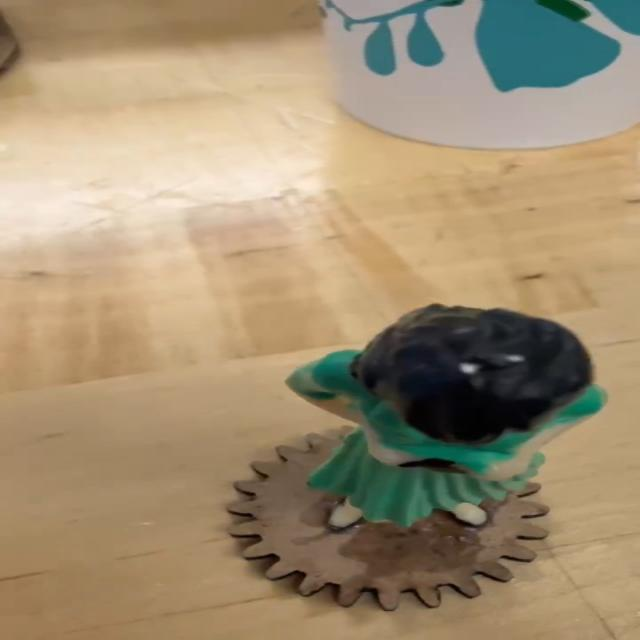Authorized: (206, 290, 640, 611)
